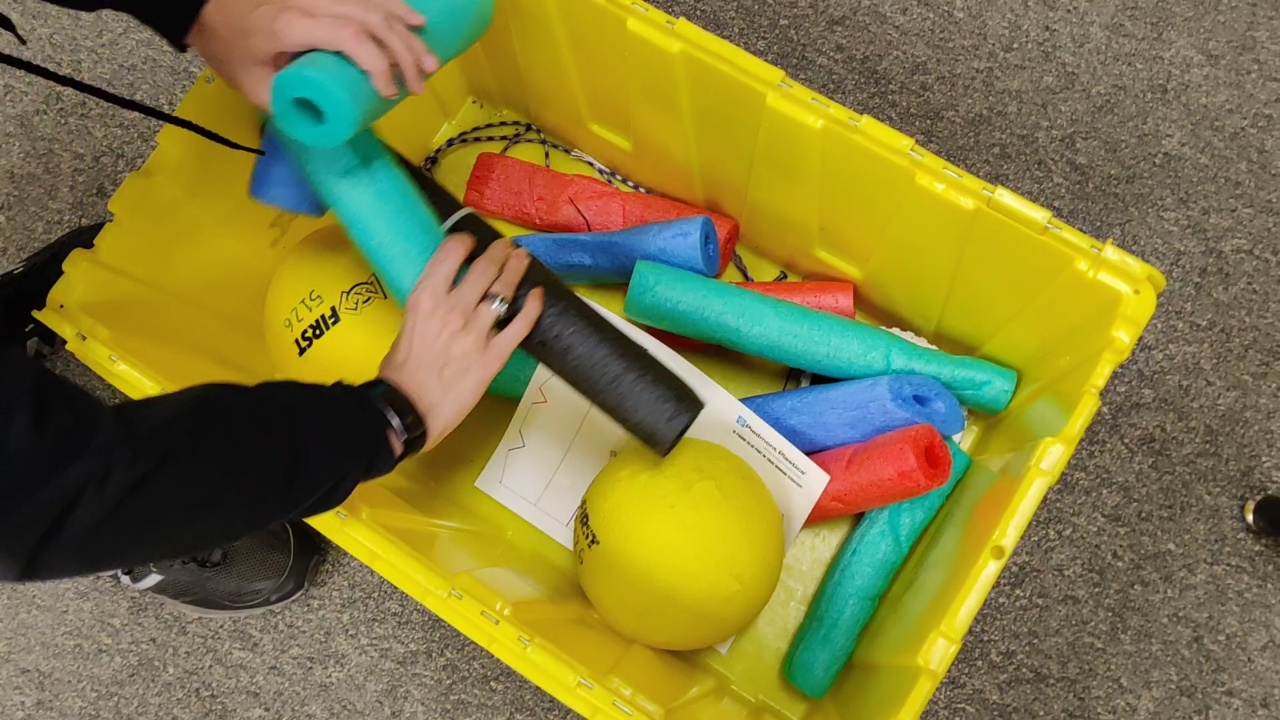Ball: (573, 437, 786, 648), (263, 217, 409, 383)
